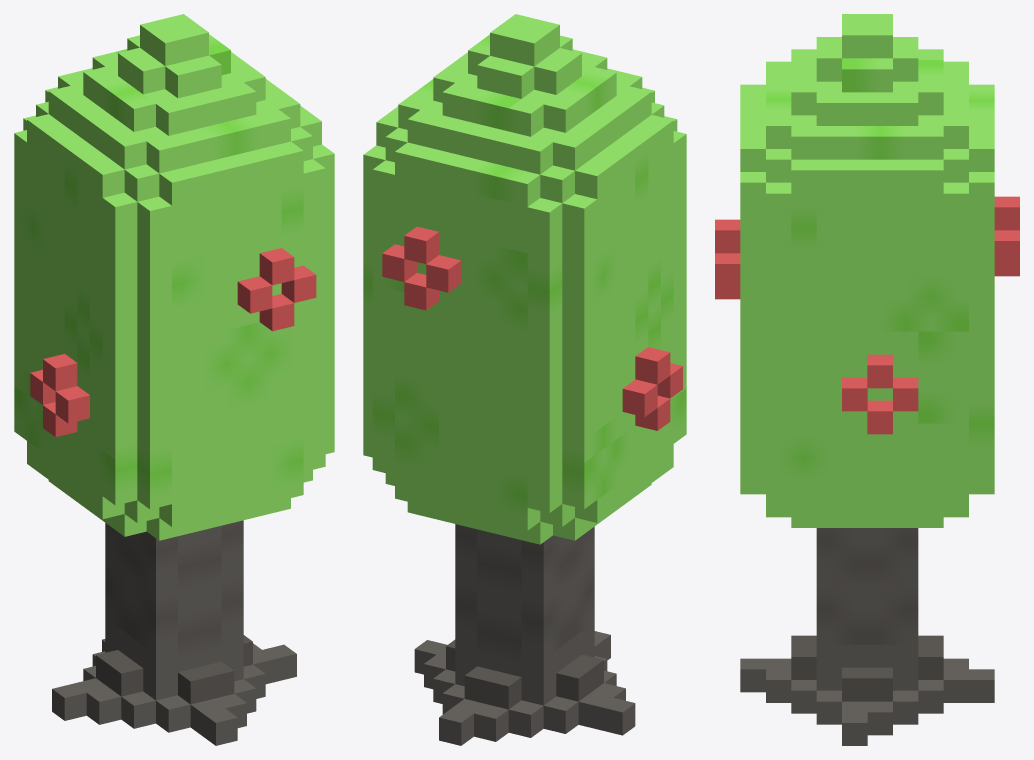
Rendered from tree3.obj.
The picture shows the model from 3 angles, left to right: view 1: azimuth 30°, elevation 25°; view 2: azimuth 150°, elevation 25°; view 3: azimuth 270°, elevation 25°; orthographic projection.
Visible parts, largest first — view 1: Box_8; view 2: Box_8; view 3: Box_8.
Boxes of the visible parts, left/top/right/bottom form: Box_8: left=14, top=14, right=334, bottom=745; Box_8: left=363, top=14, right=686, bottom=745; Box_8: left=715, top=14, right=1019, bottom=745.
Size of the model in its own units: 12 by 29 by 12.
Materials: 1 (1 with a texture image).
